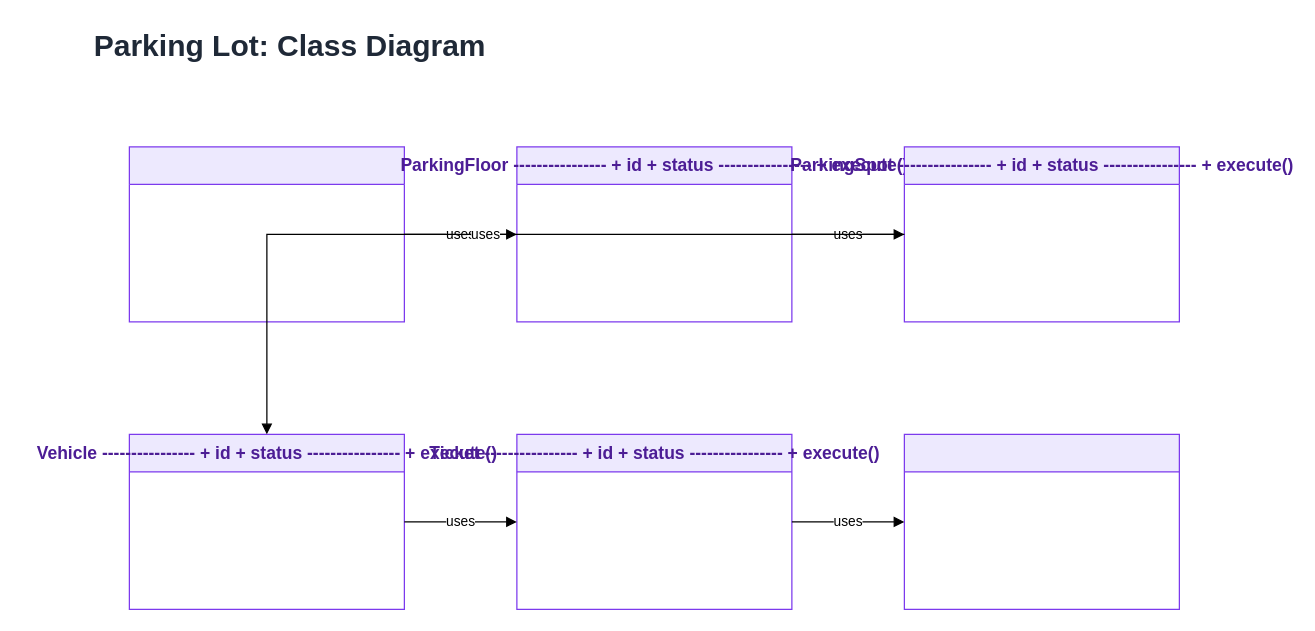
Image size: 1315x631. Some labels were removed from this diagram. Each missing label, with the centre of its shape:
ParkingLot ---------------- + id + status ---------------- + execute(): the point at 266,234
Payment ---------------- + id + status ---------------- + execute(): the point at 1041,521
